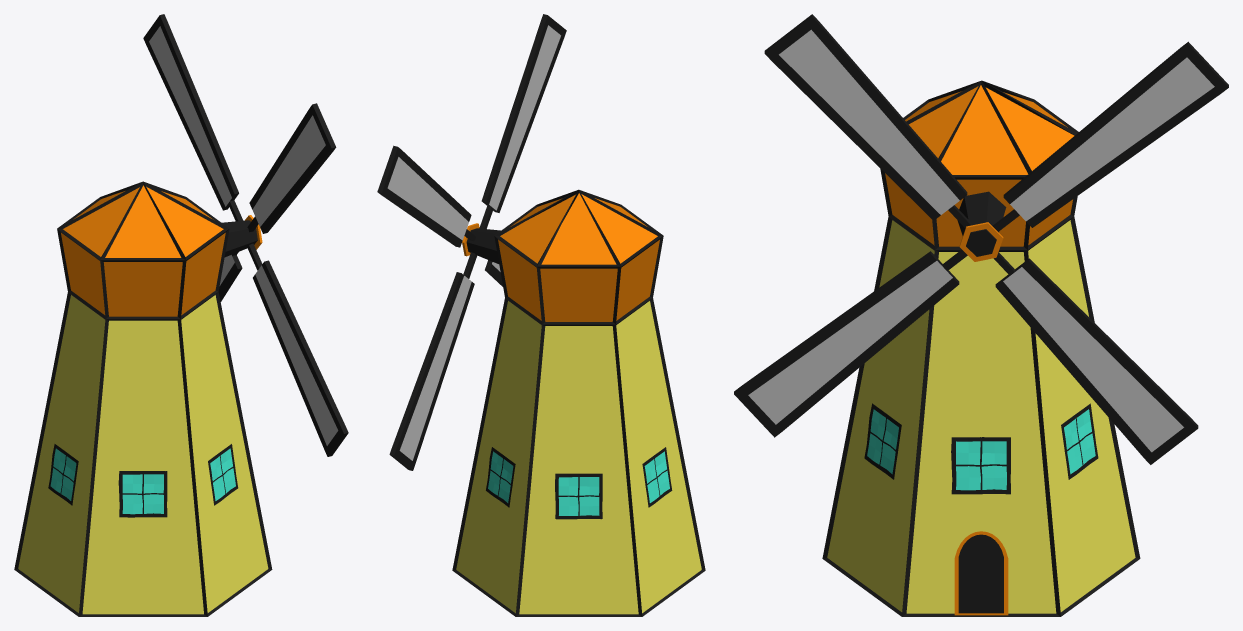
The model's file is windmill.glb.
The picture shows the model from 3 angles, left to right: view 1: azimuth 30°, elevation 25°; view 2: azimuth 150°, elevation 25°; view 3: azimuth 270°, elevation 25°; orthographic projection. The views are drawn at different scales.
Visible parts, largest first — view 1: Cylinder, Cube.001, Cube.002, window.002, window.003, window.001, rotor; view 2: Cylinder, Cube.002, Cube.001, window.004, window.005, window.003, rotor; view 3: Cylinder, Cube.001, Cube.002, door, window, window.001, window.005, rotor, Cylinder.002.
Boxes of the visible parts, x1,y1,x2,y2 form: Cylinder: [14, 181, 272, 616]; Cube.001: [143, 14, 348, 456]; Cube.002: [218, 103, 336, 301]; window.002: [118, 471, 167, 517]; window.003: [48, 444, 78, 505]; window.001: [208, 444, 238, 505]; rotor: [222, 220, 257, 257]; Cylinder: [452, 189, 705, 616]; Cube.002: [389, 14, 566, 470]; Cube.001: [377, 145, 502, 286]; window.004: [555, 473, 602, 519]; window.005: [486, 447, 515, 507]; window.003: [642, 447, 672, 507]; rotor: [466, 228, 500, 263]; Cylinder: [822, 80, 1140, 616]; Cube.001: [734, 41, 1228, 437]; Cube.002: [764, 14, 1198, 464]; door: [954, 531, 1008, 615]; window: [951, 437, 1010, 494]; window.001: [864, 403, 901, 479]; window.005: [1061, 403, 1098, 479]; rotor: [957, 191, 1006, 256]; Cylinder.002: [959, 222, 1003, 261].
Bounding box in the file's own units: 4.12 × 9.31 × 6.89.
